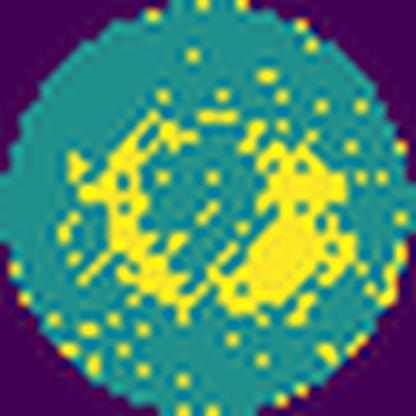Donut: (76, 98, 353, 322)
